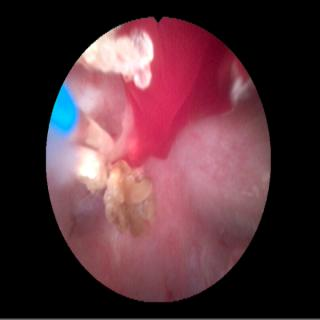fiber: (50, 85, 77, 135)
stone: (83, 30, 154, 88), (104, 159, 157, 234), (76, 146, 108, 191)
tissue: (48, 22, 266, 296)
